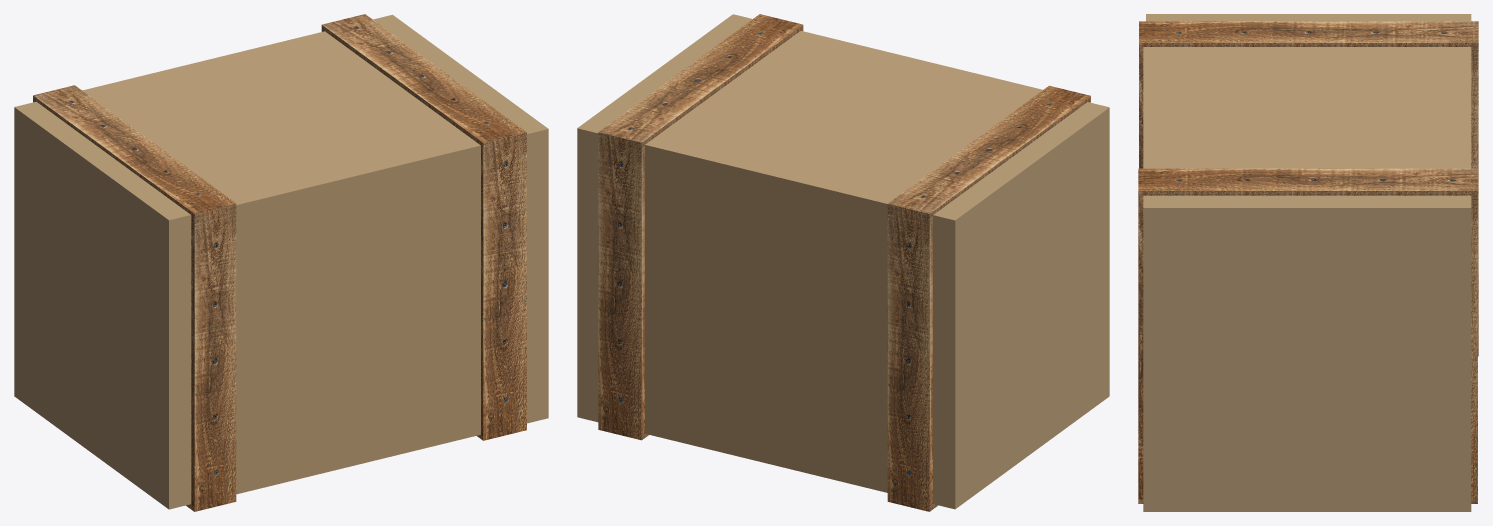
Rendered from wood_box_sopra_steria_texture_3.fbx.
3 renders of one model, left to right at view 1: azimuth 30°, elevation 25°; view 2: azimuth 150°, elevation 25°; view 3: azimuth 270°, elevation 25°, orthographic. The views are drawn at different scales.
Visible parts, largest first — view 1: Model; view 2: Model; view 3: Model.
Boxes of the visible parts, x1=… form: Model: x1=14, y1=14, x2=548, y2=511; Model: x1=577, y1=14, x2=1109, y2=511; Model: x1=1138, y1=14, x2=1478, y2=511.
Bounding box in the file's own units: 1183 × 893 × 877.
